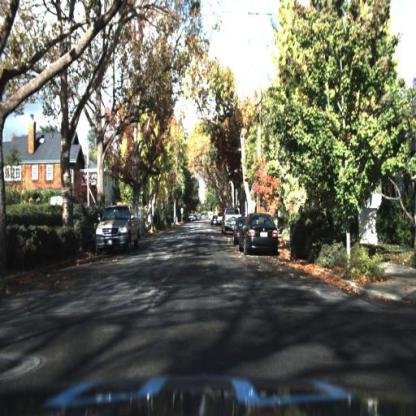car: (97, 203, 141, 255), (239, 208, 282, 251), (221, 203, 244, 237), (234, 220, 244, 251), (225, 211, 236, 238), (212, 215, 220, 229)
